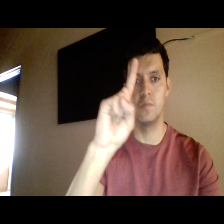2T: (89, 52, 142, 159)
